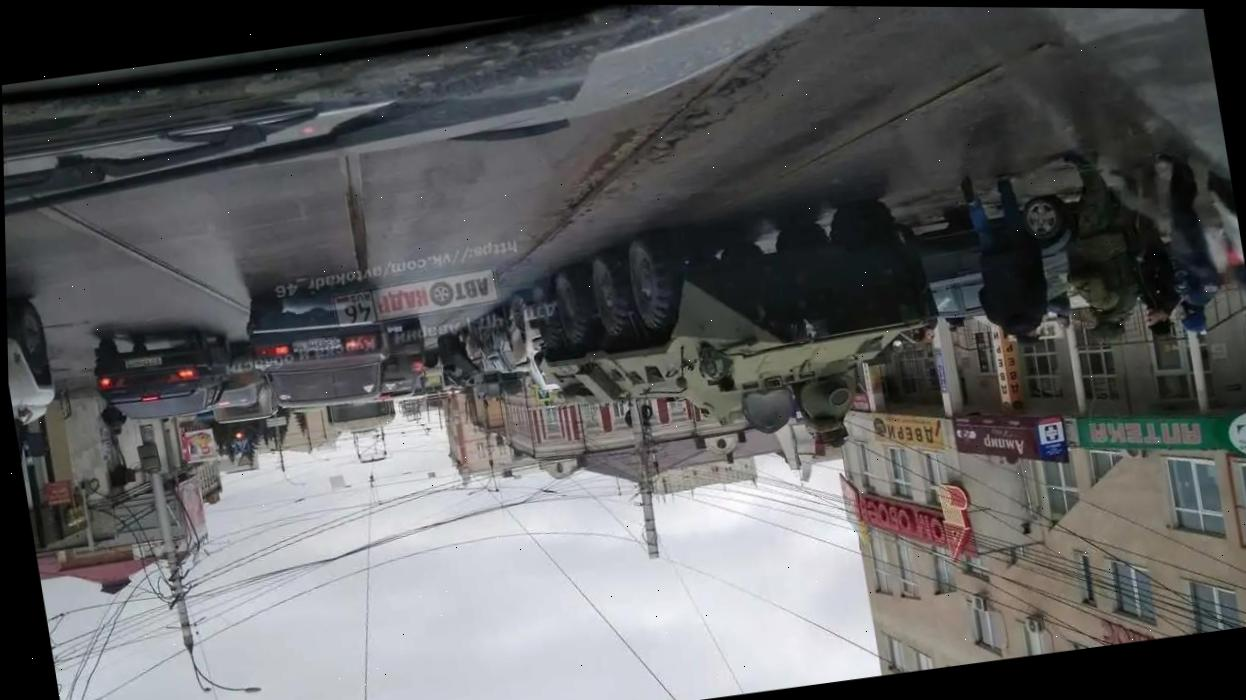tank: (512, 178, 946, 460)
